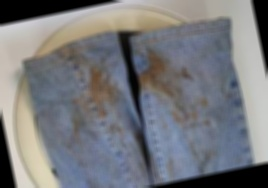earth: (139, 47, 173, 99), (82, 63, 118, 110)
